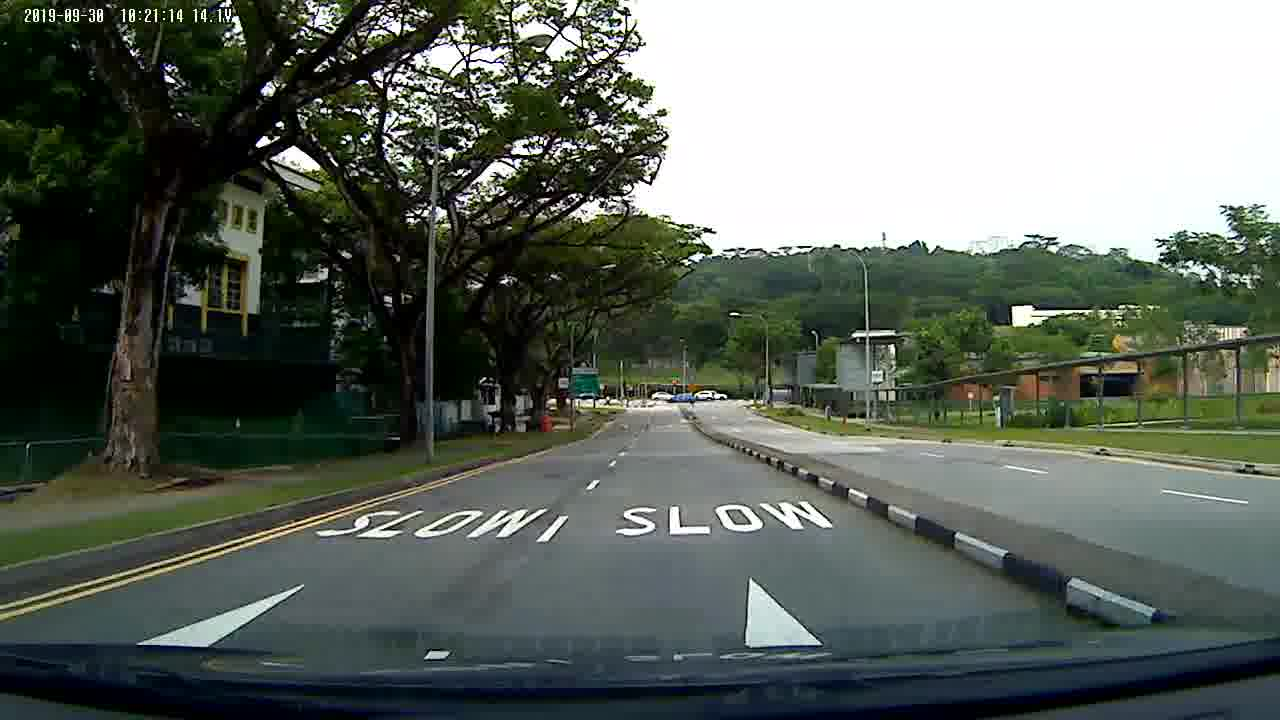car: (696, 388, 730, 403), (652, 391, 674, 403)
